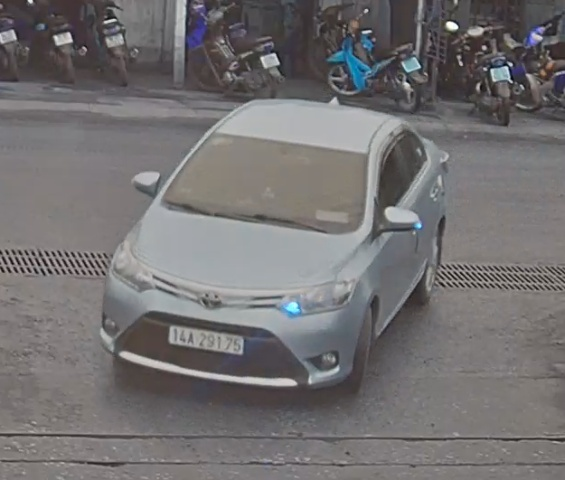vehicle plate: (161, 319, 246, 358)
